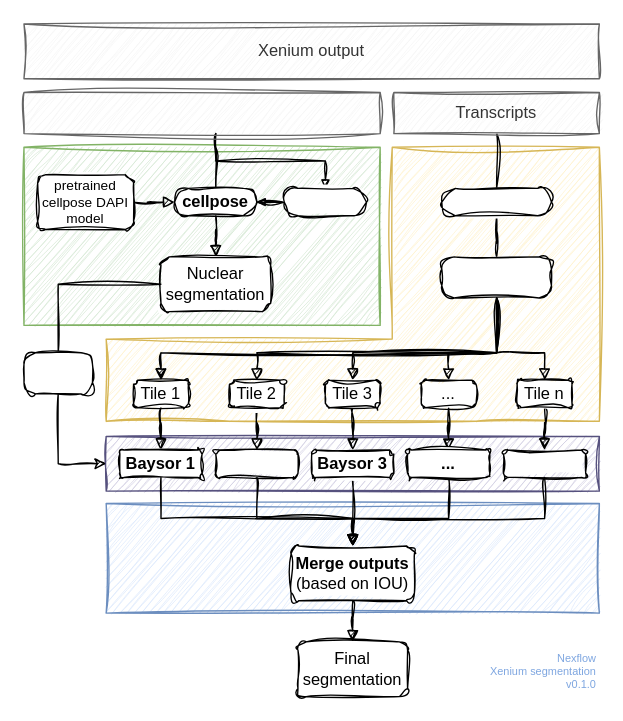
Some shapes in this 623 by 721 pixel diagram are drawn without their labels. Here are the shapes that lost their labels. From the top down, the centre of each, then its label:
At point (201, 112): "DAPI (TIFF)".
At point (324, 201): "getImageSize".
At point (495, 201): "QV filtering".
At point (495, 277): "removal of non-gene transcripts".
At point (57, 372): "prior segmentation".
At point (256, 463): "Baysor 2".
At point (544, 463): "Baysor n".
